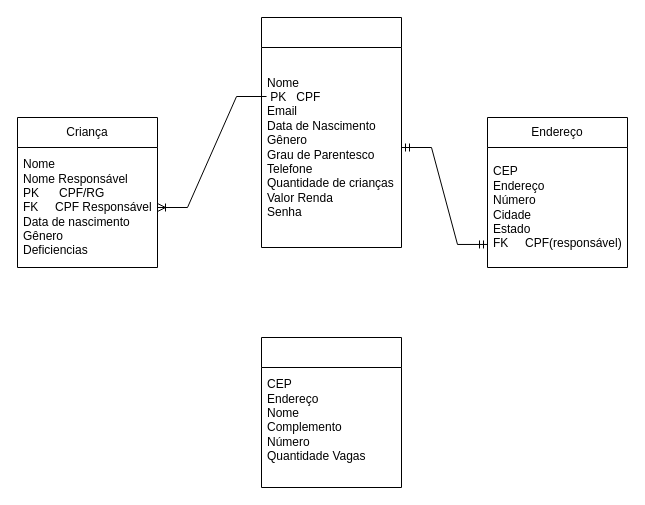
This 645x505 diagram has some shape labels left out. Each missing label, with the box of its shape:
Creches: (260, 336, 402, 488)
Responsavel: (260, 16, 402, 248)
